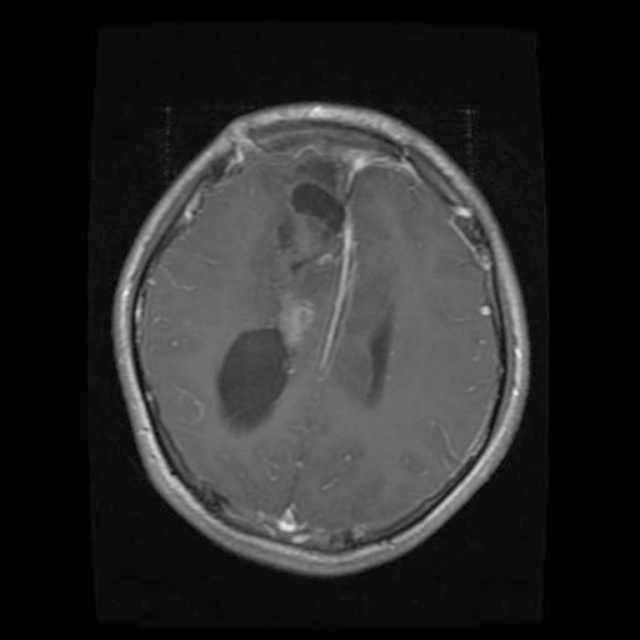pituitary tumor: (212, 322, 294, 433)
